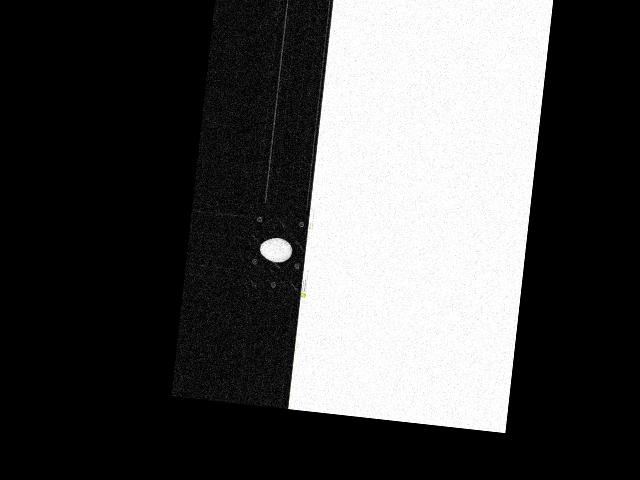egg: (259, 235, 293, 263)
